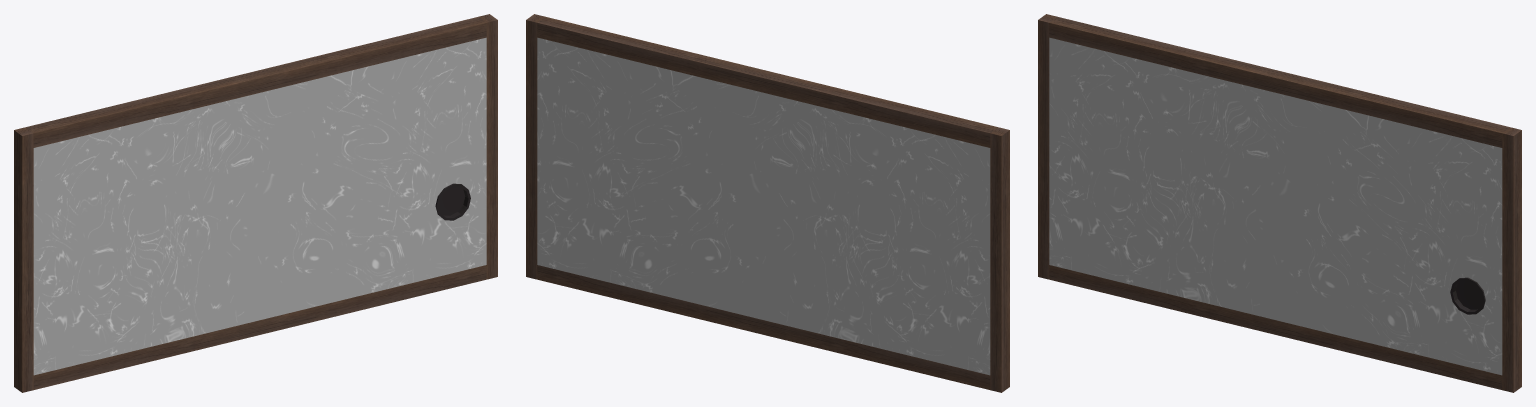
The model's file is toguti01l.fbx.
The picture shows the model from 3 angles, left to right: view 1: azimuth 30°, elevation 25°; view 2: azimuth 150°, elevation 25°; view 3: azimuth 330°, elevation 25°; orthographic projection.
Visible parts, largest first — view 1: toguti01l; view 2: toguti01l; view 3: toguti01l.
Boxes of the visible parts, x1=… form: toguti01l: x1=14, y1=14, x2=497, y2=392; toguti01l: x1=526, y1=14, x2=1009, y2=392; toguti01l: x1=1038, y1=14, x2=1521, y2=392.
Size of the model in its own units: 110 by 56.68 by 3.69.
